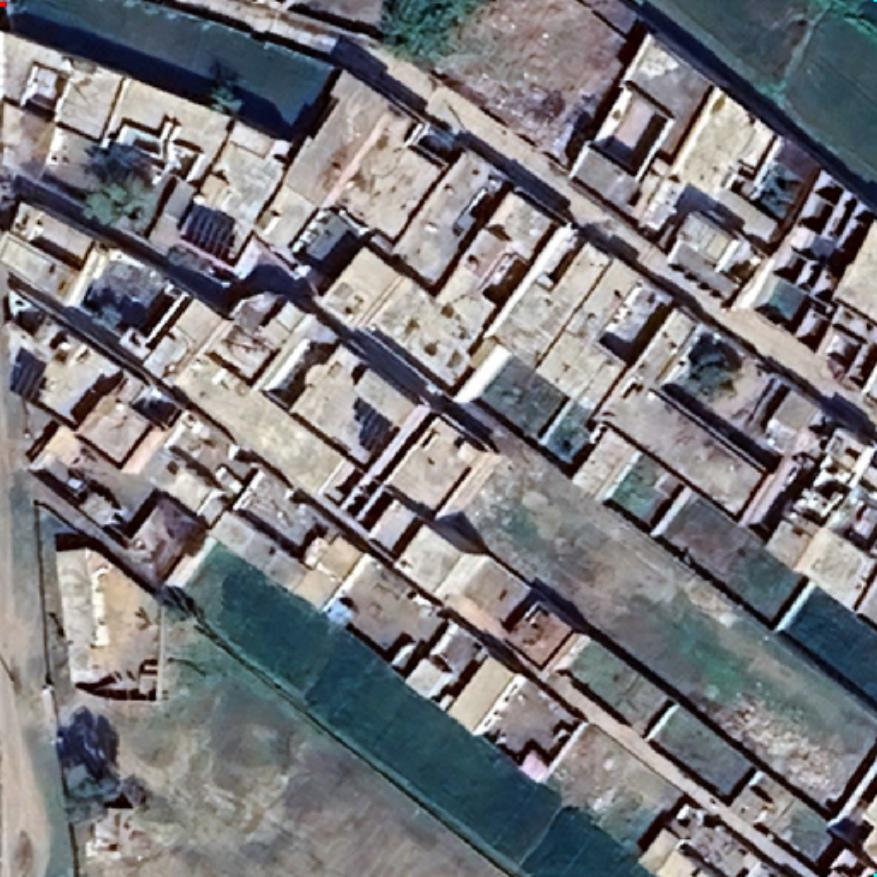Solarpanel: (173, 199, 243, 264), (344, 389, 401, 450), (6, 344, 50, 404)
